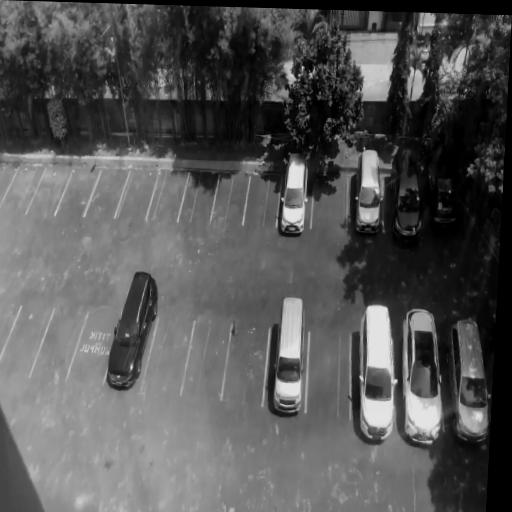Car: (101, 267, 163, 398), (402, 309, 445, 442), (448, 310, 490, 446), (358, 305, 394, 441), (268, 295, 307, 420), (390, 146, 427, 246), (276, 149, 310, 236), (422, 151, 459, 229), (352, 150, 383, 234)
Space Available: (29, 308, 89, 379), (182, 318, 233, 401), (304, 328, 351, 417), (64, 311, 121, 384), (140, 318, 194, 394), (223, 321, 270, 407), (0, 307, 54, 379), (54, 170, 101, 221), (145, 171, 190, 222), (209, 172, 250, 227), (26, 168, 73, 215), (115, 169, 158, 220), (83, 170, 129, 217), (310, 174, 348, 228), (178, 172, 219, 222), (244, 174, 281, 226), (0, 167, 43, 211), (0, 303, 20, 356), (0, 163, 18, 203)
